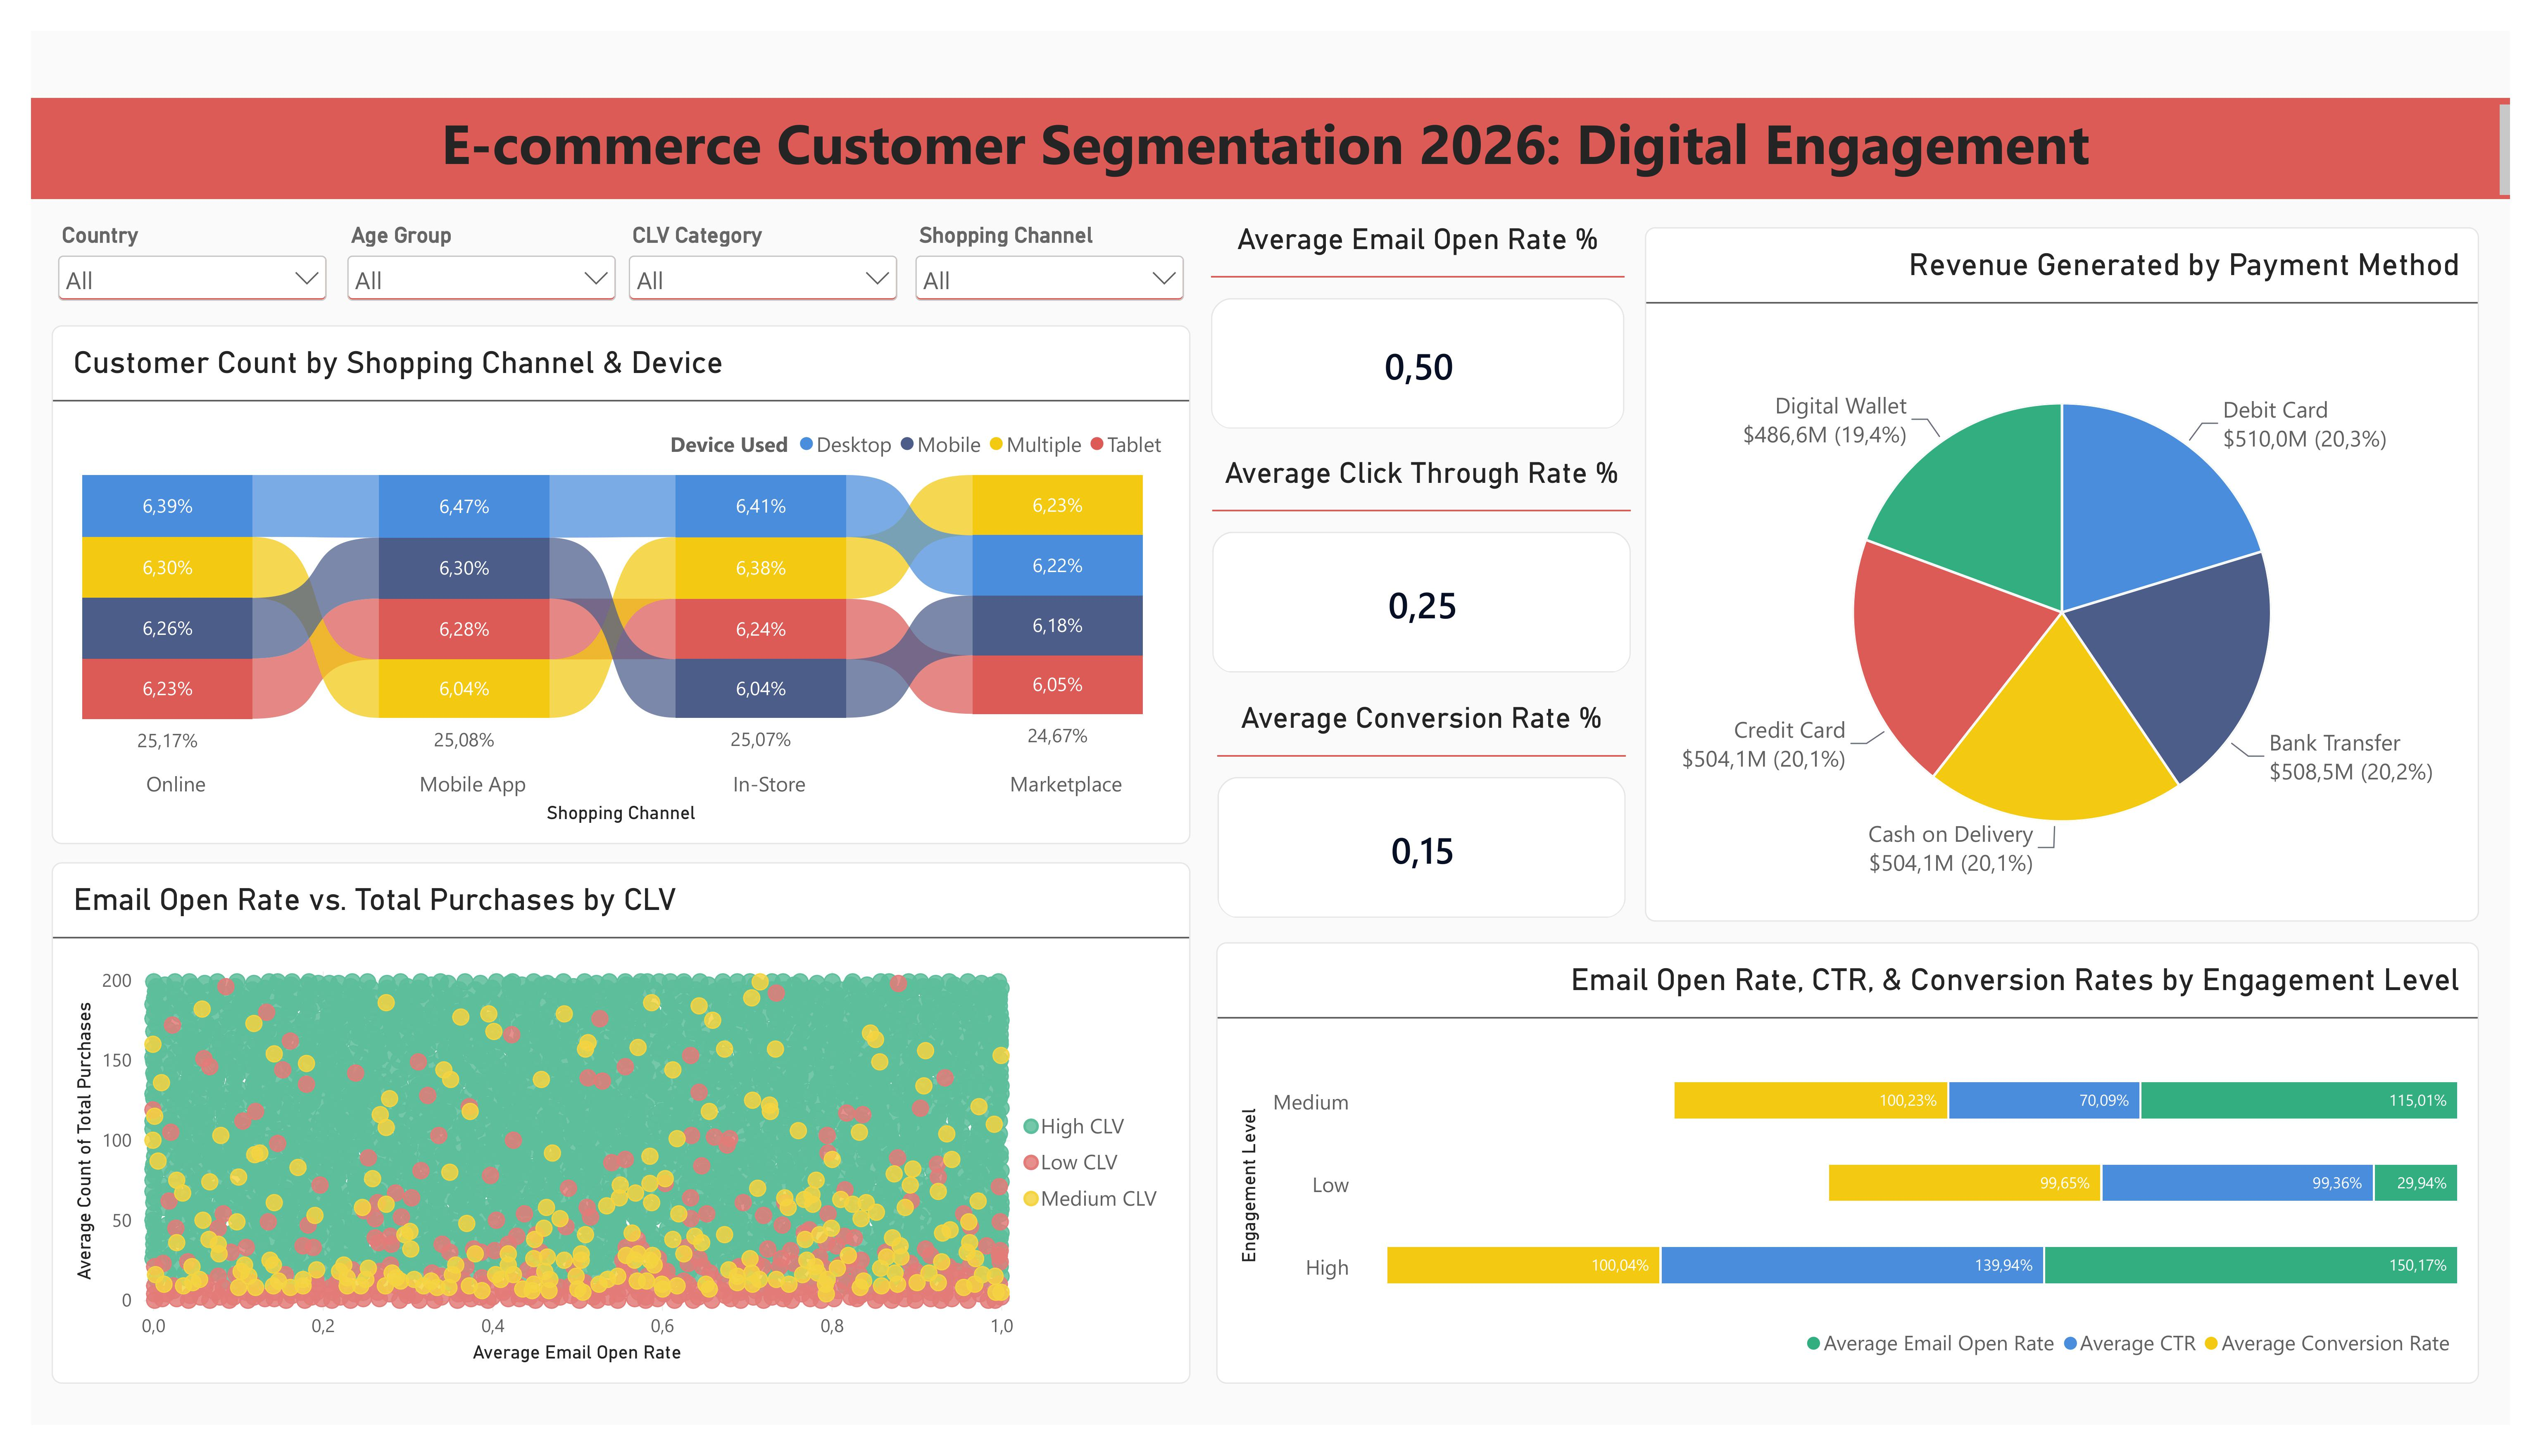

The dashboard page shown, as its layout file describes it:
{"tool":"powerbi","page":{"name":"Page 4","canvas":[1920,1080],"ordinal":3},"visuals":[{"type":"cardVisual","title":"Average Email Open Rate %","fields":{"Data":["Avg(E-commerce_Customer_Segmentation_2026.email_open_rate)"]},"box":[914,148,320,160],"z":0},{"type":"cardVisual","title":"Average Click Through Rate %","fields":{"Data":["Avg(E-commerce_Customer_Segmentation_2026.click_through_rate)"]},"box":[914.8,328.8,324,168],"z":1000},{"type":"cardVisual","title":"Average Conversion Rate %","fields":{"Data":["Avg(E-commerce_Customer_Segmentation_2026.conversion_rate)"]},"box":[918.8,518.8,316,168],"z":2000},{"type":"barChart","title":"Email Open Rate, CTR, & Conversion Rates by Engagement Level","fields":{"Category":["E-commerce_Customer_Segmentation_2026.engagement_level"],"Y":["Divide(E-commerce_Customer_Segmentation_2026.Avg Open Rate, ScopedEval(E-commerce_Customer_Segmentation_2026.Avg Open Ra","Divide(E-commerce_Customer_Segmentation_2026.Avg CTR, ScopedEval(E-commerce_Customer_Segmentation_2026.Avg CTR, []))","Divide(E-commerce_Customer_Segmentation_2026.Avg Conversion Rate, ScopedEval(E-commerce_Customer_Segmentation_2026.Avg C"]},"box":[918,706,978,342],"z":3000},{"type":"scatterChart","title":"Email Open Rate vs. Total Purchases by CLV","fields":{"X":["Avg(E-commerce_Customer_Segmentation_2026.email_open_rate)"],"Y":["Avg(E-commerce_Customer_Segmentation_2026.total_purchases)"],"Category":["E-commerce_Customer_Segmentation_2026.customer_id"],"Series":["E-commerce_Customer_Segmentation_2026.clv_category"]},"box":[16,644,882,404],"z":4000},{"type":"pieChart","title":"Revenue Generated by Payment Method","fields":{"Category":["E-commerce_Customer_Segmentation_2026.payment_method"],"Y":["E-commerce_Customer_Segmentation_2026.Total Revenue"]},"box":[1250,152,646,538],"z":5000},{"type":"ribbonChart","title":"Customer Count by Shopping Channel & Device","fields":{"Category":["E-commerce_Customer_Segmentation_2026.shopping_channel"],"Y":["CountNonNull(E-commerce_Customer_Segmentation_2026.customer_id)"],"Series":["E-commerce_Customer_Segmentation_2026.device_used"]},"box":[16,228,882,402],"z":6000},{"type":"textbox","box":[0,52,1920,78],"z":7000},{"type":"slicer","fields":{"Values":["E-commerce_Customer_Segmentation_2026.country"]},"box":[16,148,218,74],"z":8000},{"type":"slicer","fields":{"Values":["E-commerce_Customer_Segmentation_2026.age_group"]},"box":[240,148,218,74],"z":9000},{"type":"slicer","fields":{"Values":["E-commerce_Customer_Segmentation_2026.clv_category"]},"box":[458,148,218,74],"z":10000},{"type":"slicer","fields":{"Values":["E-commerce_Customer_Segmentation_2026.shopping_channel"]},"box":[680,148,218,74],"z":11000}]}

Visuals, with their boxes on the page's 1920x1080 design canvas (x1, y1, x2, y2). These are canvas units, not pixel positions in the 2541x1456 screenshot, which may show the page scaled, cropped or inside an application window:
"Average Email Open Rate %" cardVisual: detection(914, 148, 1234, 308)
"Average Click Through Rate %" cardVisual: detection(915, 329, 1239, 497)
"Average Conversion Rate %" cardVisual: detection(919, 519, 1235, 687)
"Email Open Rate, CTR, & Conversion Rates by Engagement Level" barChart: detection(918, 706, 1896, 1048)
"Email Open Rate vs. Total Purchases by CLV" scatterChart: detection(16, 644, 898, 1048)
"Revenue Generated by Payment Method" pieChart: detection(1250, 152, 1896, 690)
"Customer Count by Shopping Channel & Device" ribbonChart: detection(16, 228, 898, 630)
textbox: detection(0, 52, 1920, 130)
slicer - E-commerce_Customer_Segmentation_2026.country: detection(16, 148, 234, 222)
slicer - E-commerce_Customer_Segmentation_2026.age_group: detection(240, 148, 458, 222)
slicer - E-commerce_Customer_Segmentation_2026.clv_category: detection(458, 148, 676, 222)
slicer - E-commerce_Customer_Segmentation_2026.shopping_channel: detection(680, 148, 898, 222)
